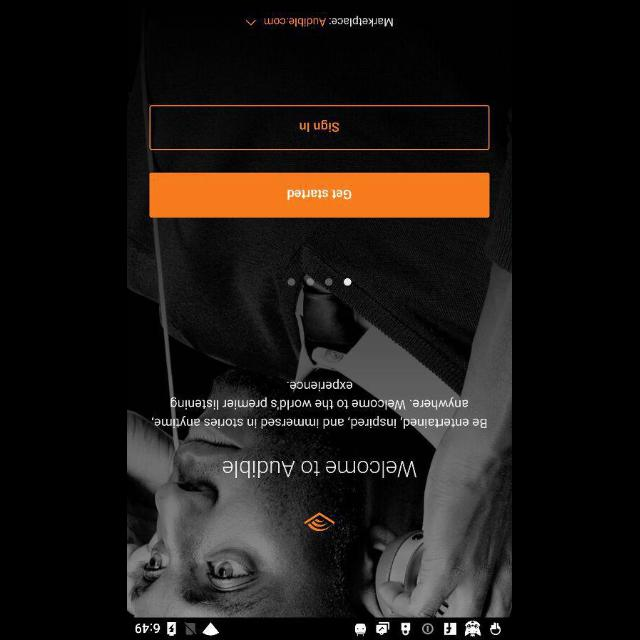backgroundimage: (128, 0, 512, 616)
icon: (246, 19, 258, 25)
image: (305, 512, 335, 532)
pageindicator: (287, 278, 353, 286)
text: (152, 378, 488, 428), (223, 460, 417, 478), (264, 16, 394, 27)
textbutton: (150, 104, 490, 150), (150, 172, 490, 218)
uppertaskbar: (128, 617, 512, 639)
